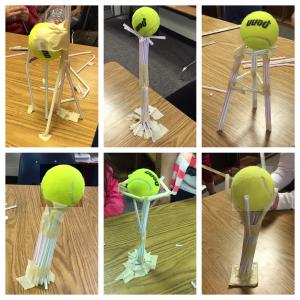TennisBall: (41, 165, 85, 209), (233, 167, 275, 213), (239, 13, 279, 51), (29, 25, 65, 65), (128, 169, 162, 204), (132, 7, 162, 39)
